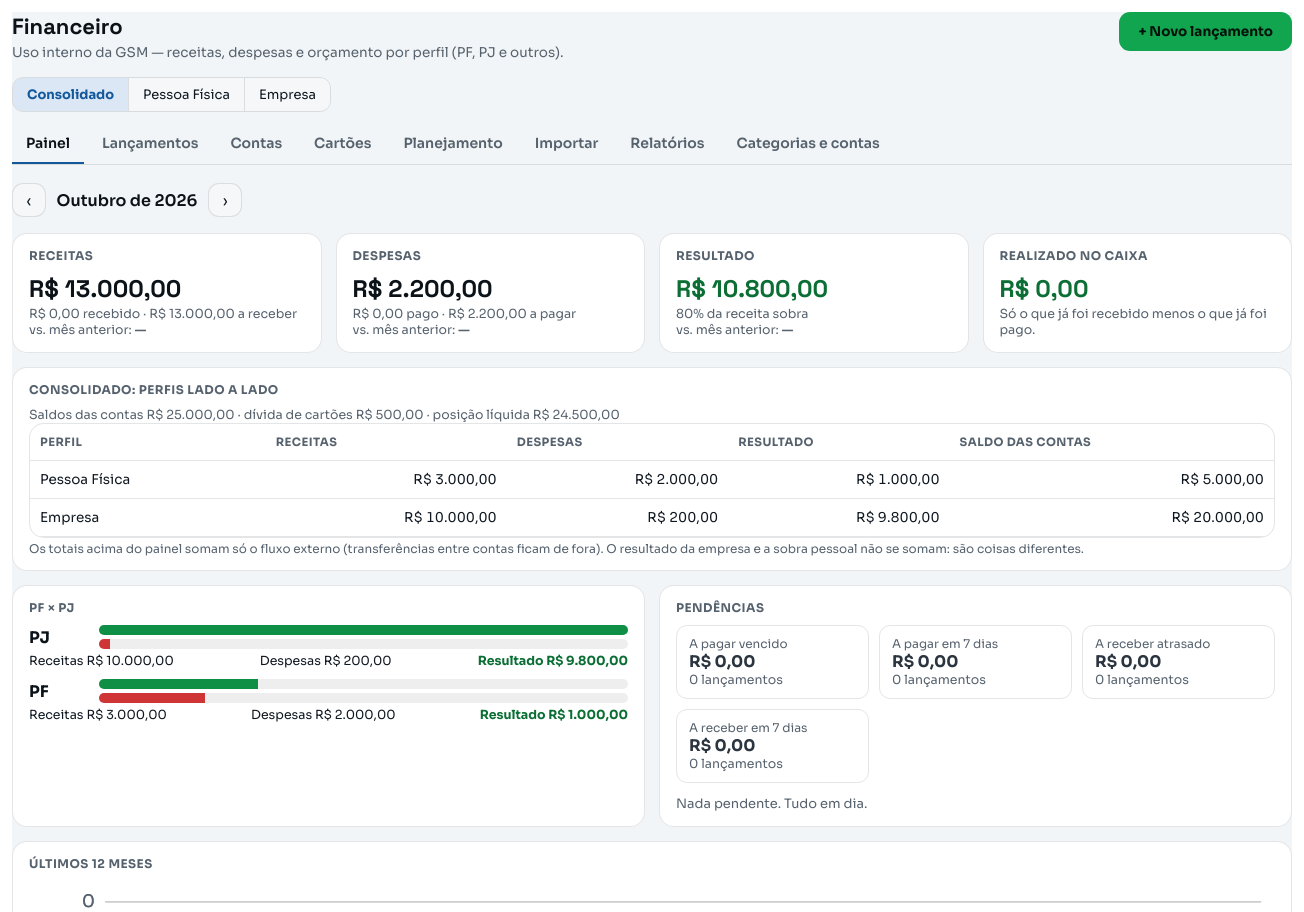
Test: Painel consolidado › escolhendo um perfil, pede o painel e a visão só desse perfil
Expected: the element named "Perfis e posições" is shown, [12,367,1292,571]
Click the button "Empresa". click: coordinates (287, 94)
box: [244,78,330,111]
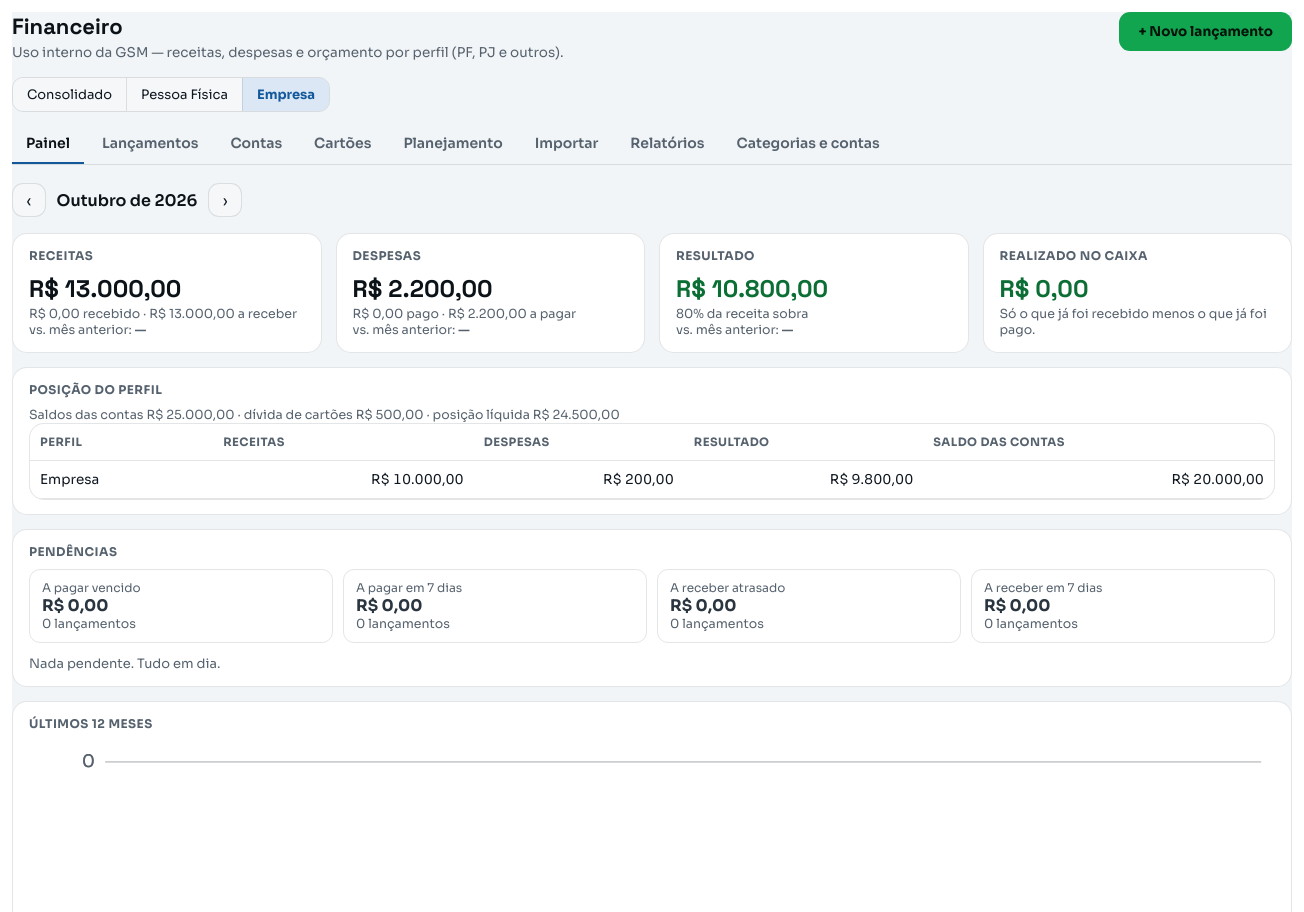
Result: the heading "Posição do perfil" is shown at [29,382,162,397]
